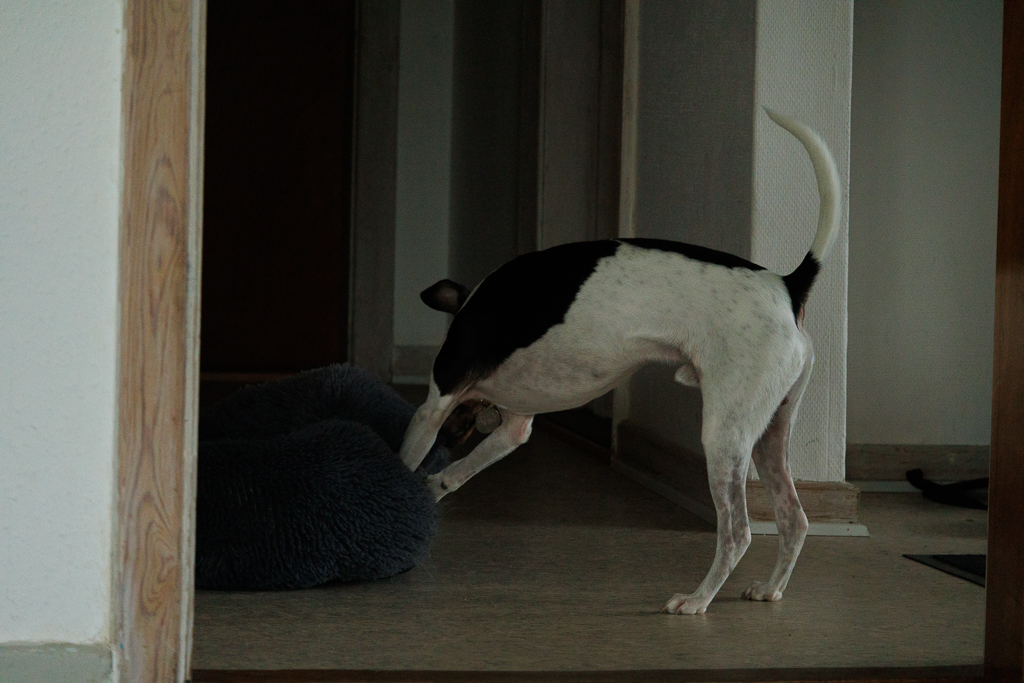Dog: (364, 90, 845, 620)
